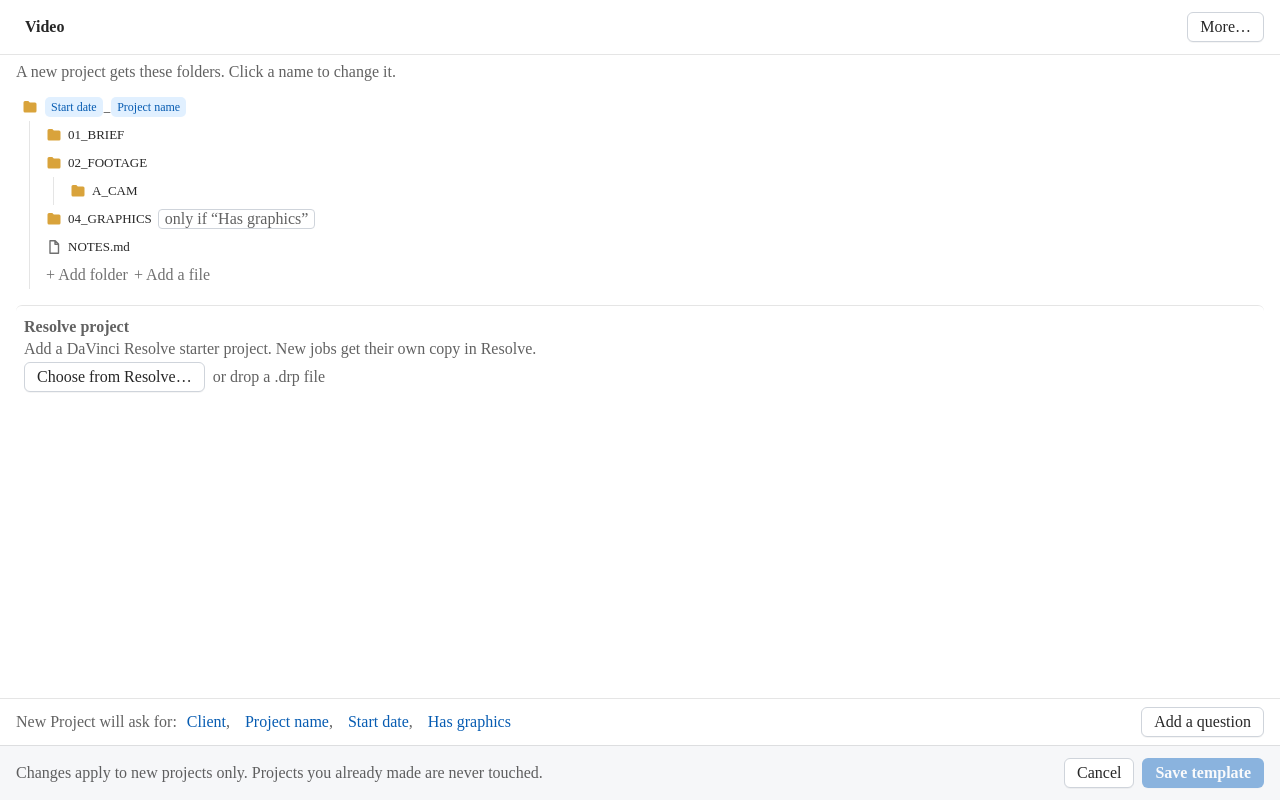
it: TemplateEditor (one screen) › the order New Project asks the questions in › a click without moving still opens the question
The image size is (1280, 800).
Click the button "Start date" in the row of "New Project will ask for:" at (378, 722), box top-left (348, 713), bottom-right (409, 731)
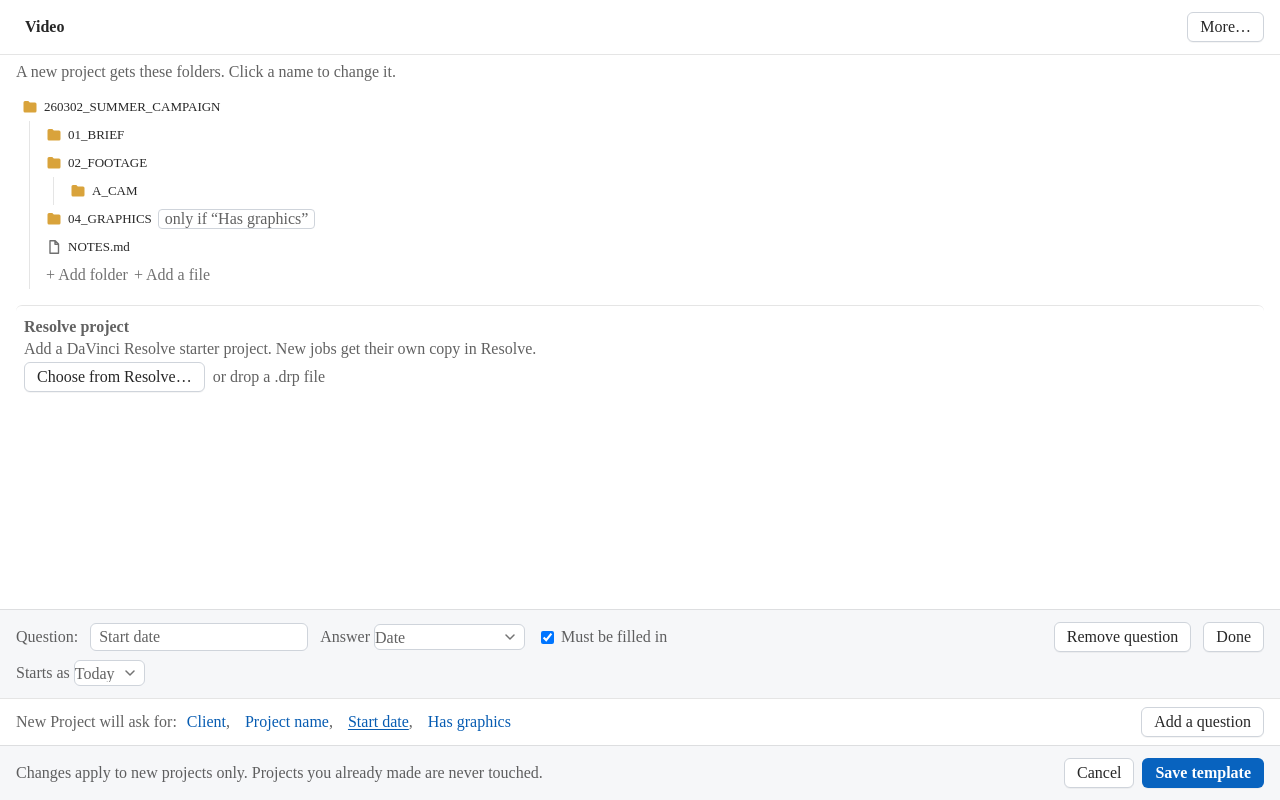
Result: the element named "Question: Start date" is shown at top-left (0, 609), bottom-right (1279, 698)
